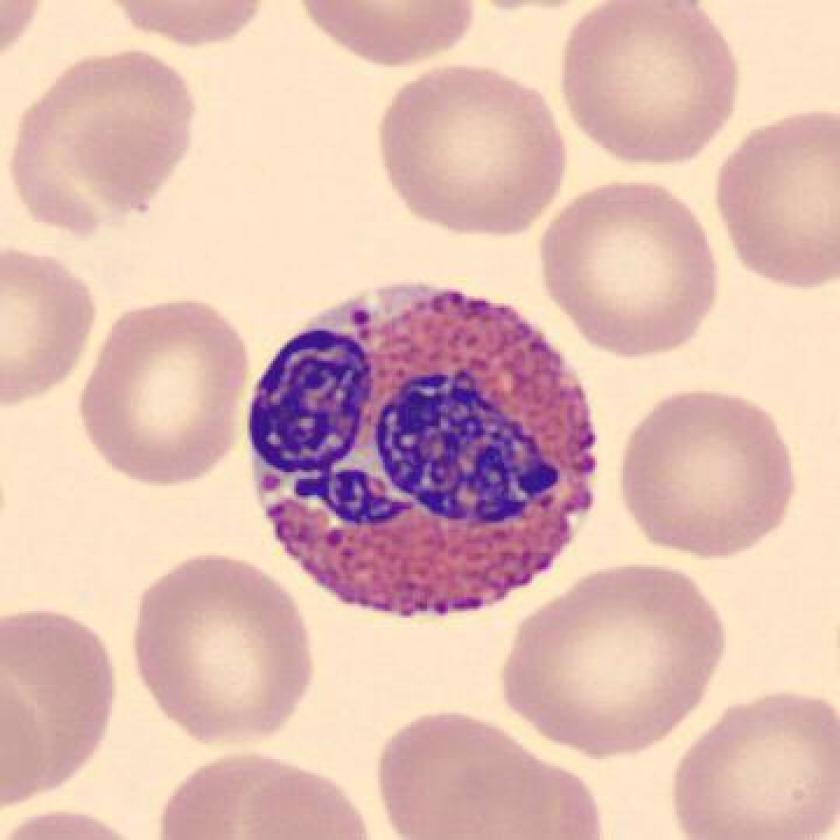eosinophil: (225, 265, 622, 637)
